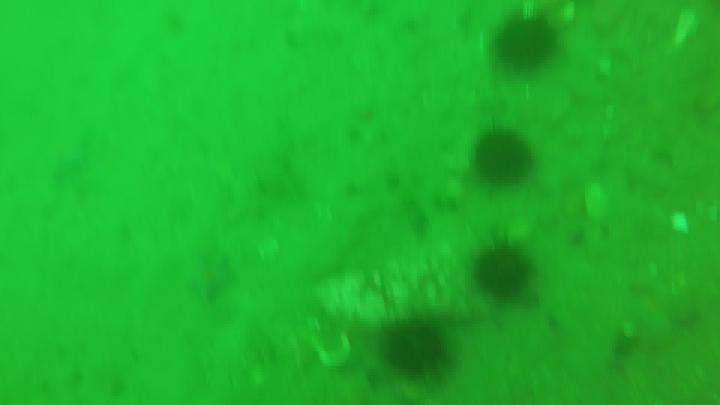echinus: (488, 13, 556, 71), (471, 128, 537, 185), (481, 242, 531, 299), (385, 326, 440, 376)
starfish: (185, 252, 237, 304)
